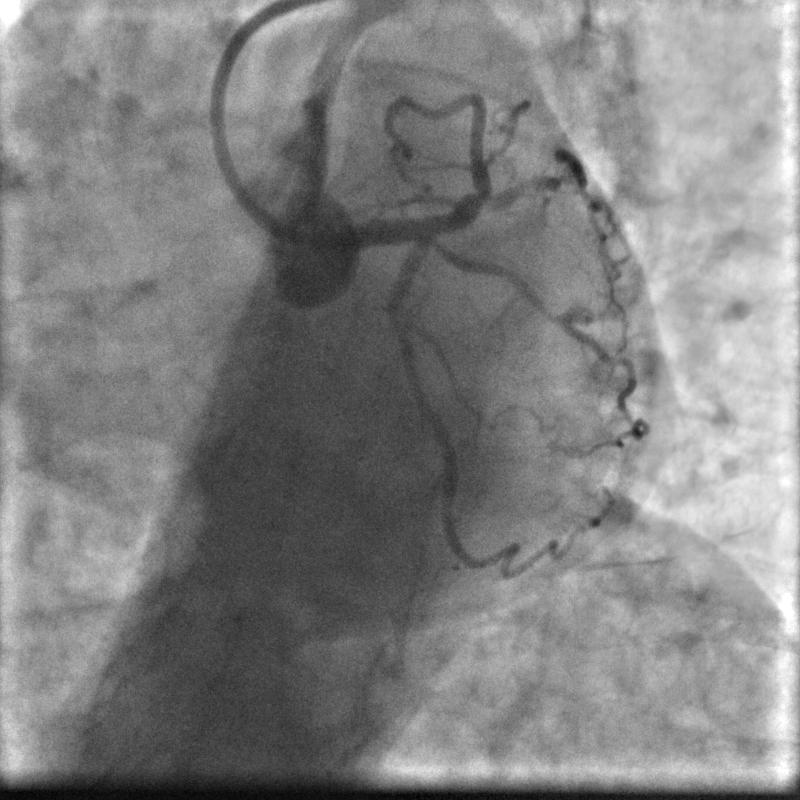Stenosis: (387, 303, 416, 344)
